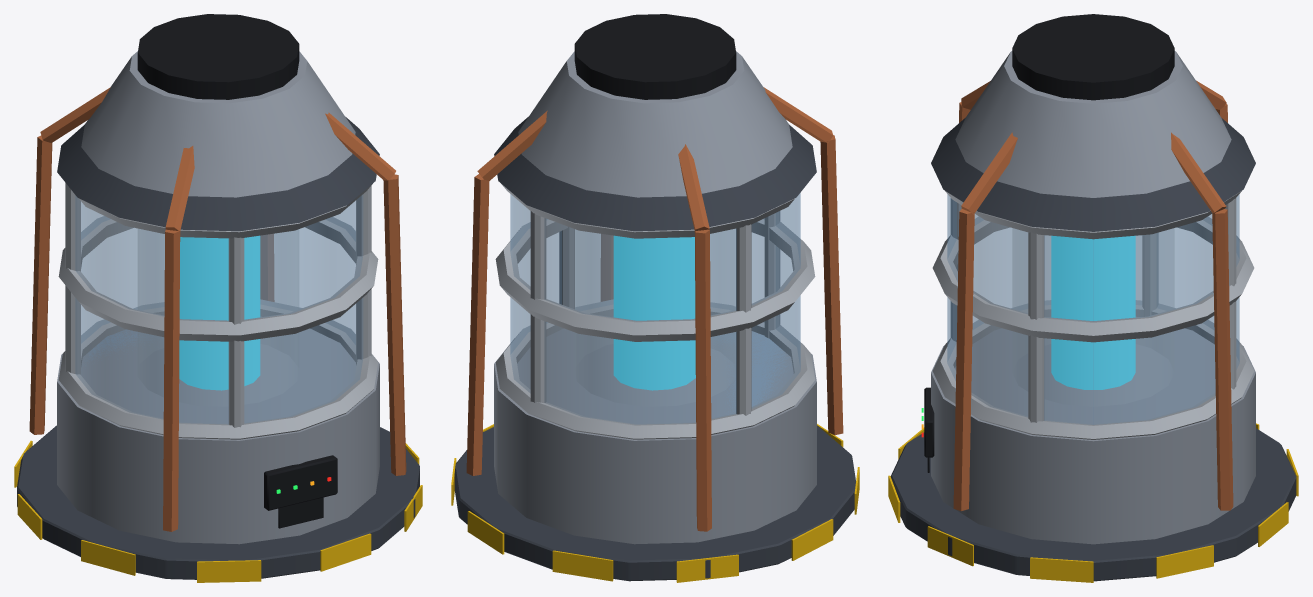
The model's file is reactor_fusion_core_reactor.glb.
The picture shows the model from 3 angles, left to right: view 1: azimuth 30°, elevation 25°; view 2: azimuth 150°, elevation 25°; view 3: azimuth 270°, elevation 25°; orthographic projection.
Parts seen in each view (by area): view 1: reactor_fusion_core_reactor; view 2: reactor_fusion_core_reactor; view 3: reactor_fusion_core_reactor.
Boxes of the visible parts, left/top/right/bottom form: reactor_fusion_core_reactor: left=14, top=14, right=422, bottom=582; reactor_fusion_core_reactor: left=451, top=14, right=859, bottom=582; reactor_fusion_core_reactor: left=888, top=14, right=1298, bottom=582.
Bounding box in the file's own units: 2.52 × 3.04 × 2.52.
